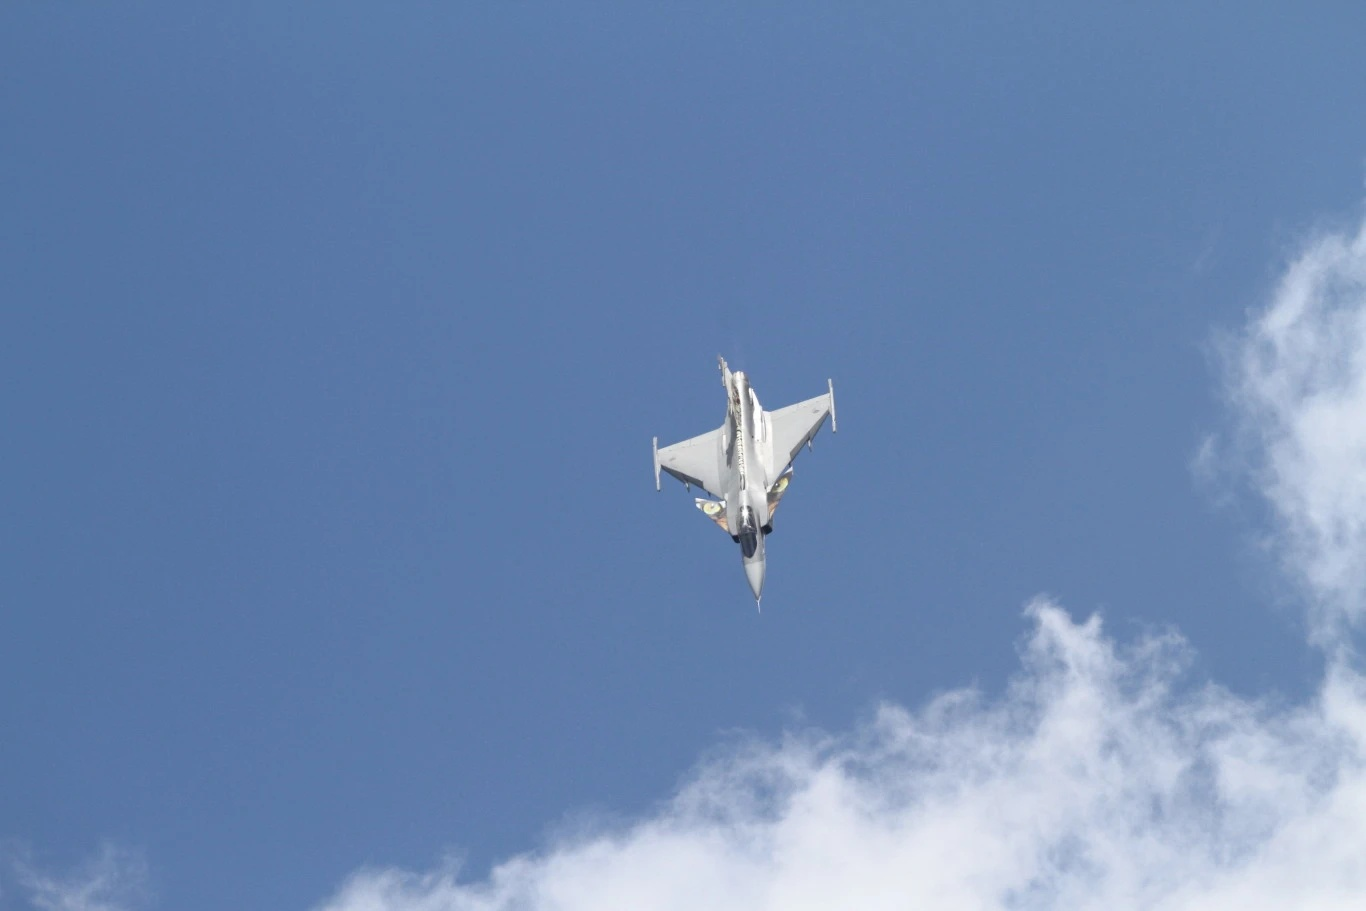JAS39: (651, 351, 839, 615)
